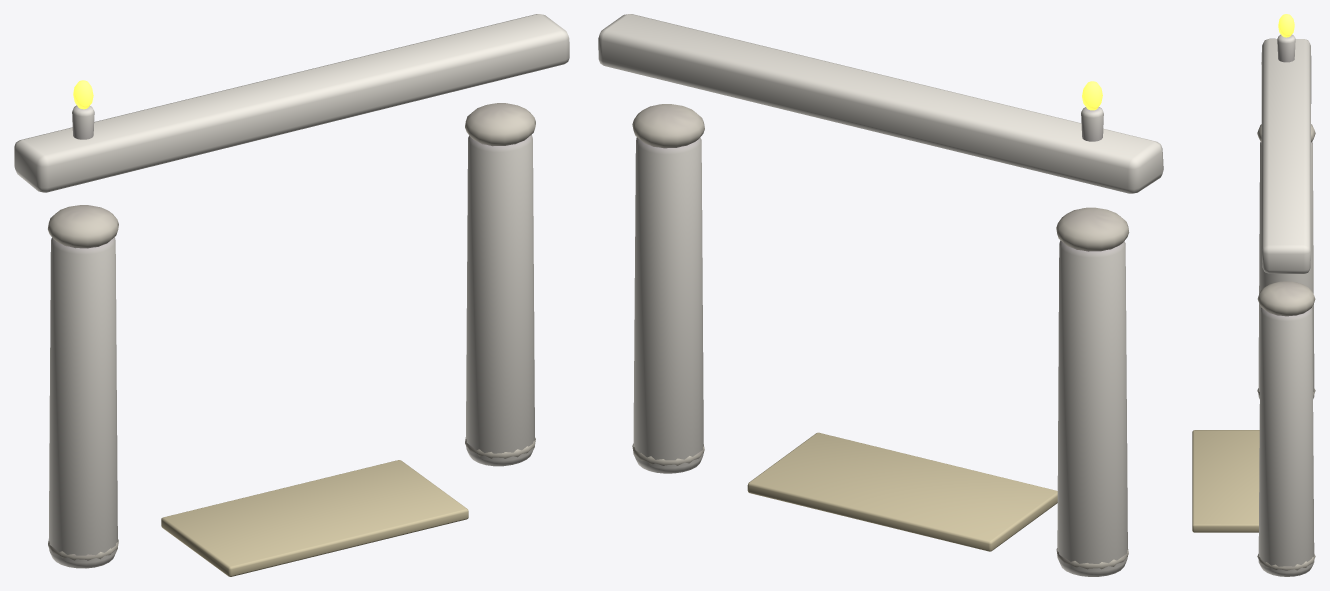
3 renders of one model, left to right at view 1: azimuth 30°, elevation 25°; view 2: azimuth 150°, elevation 25°; view 3: azimuth 270°, elevation 25°, orthographic. The views are drawn at different scales.
Parts seen in each view (by area): view 1: gate_44034a3f; view 2: gate_44034a3f; view 3: gate_44034a3f.
Part boxes in pixels (x1=…): gate_44034a3f: x1=14, y1=14, x2=569, y2=576; gate_44034a3f: x1=598, y1=14, x2=1163, y2=576; gate_44034a3f: x1=1192, y1=14, x2=1315, y2=576.
Bounding box in the file's own units: 5.33 × 4.56 × 1.31.
